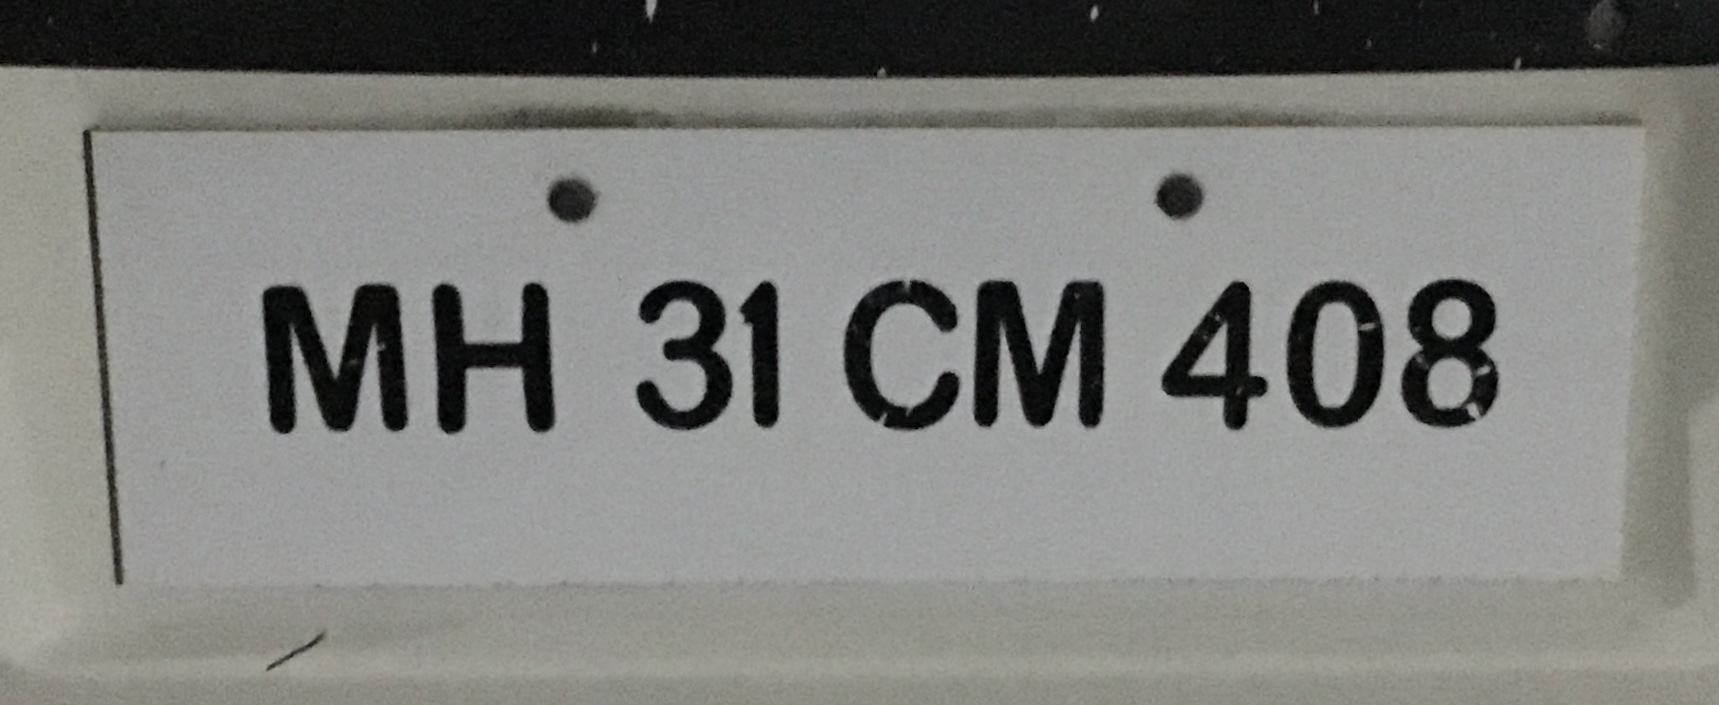numberplate: (76, 125, 1659, 586)
